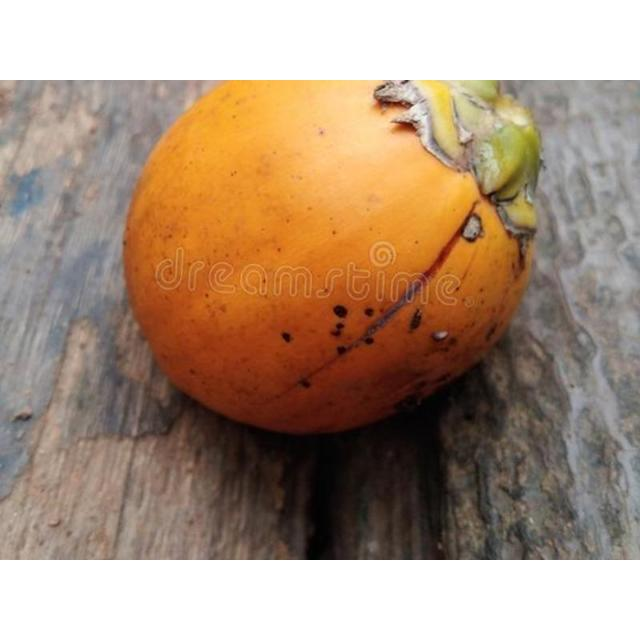good: (122, 80, 541, 438)
